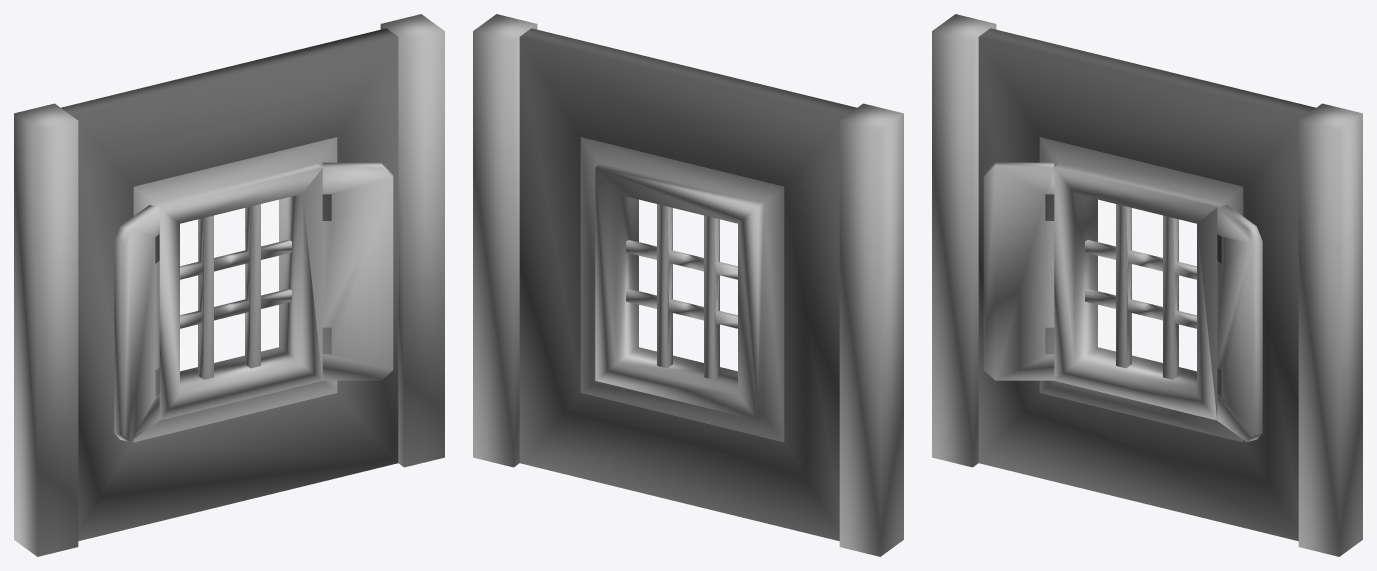
Rendered from Muro.obj.
3 views of the same model, side by side, from view 1: azimuth 30°, elevation 25°; view 2: azimuth 150°, elevation 25°; view 3: azimuth 330°, elevation 25° (orthographic).
Visible parts, largest first — view 1: wall_window_shutters; view 2: wall_window_shutters; view 3: wall_window_shutters.
Boxes of the visible parts, <box> form: wall_window_shutters: <box>14,14,444,556</box>; wall_window_shutters: <box>473,14,903,556</box>; wall_window_shutters: <box>932,14,1362,556</box>.
Size of the model in its own units: 1 by 1 by 0.175.
1 material, 1 textured.
